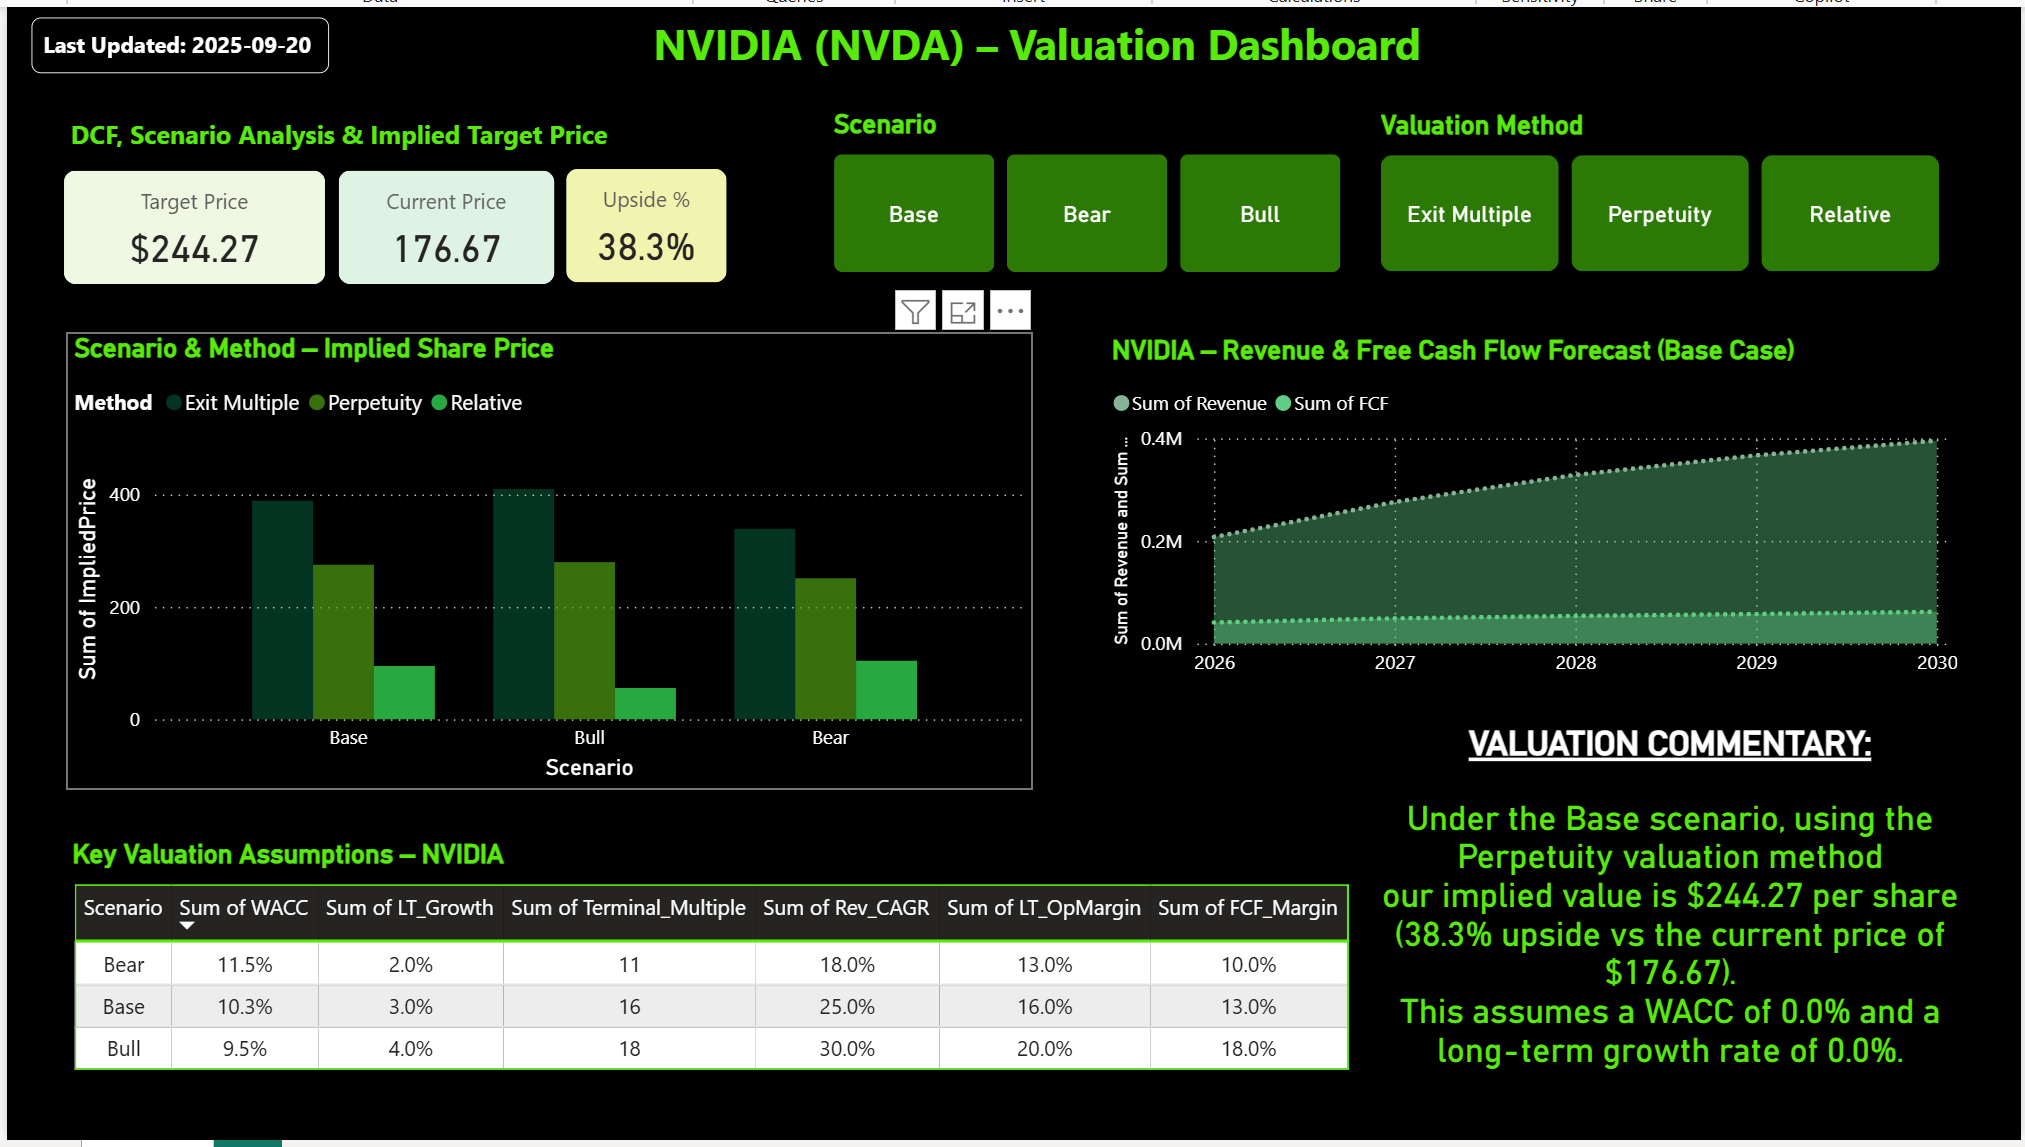

This screenshot's page, from the dashboard's own definition file:
{"tool":"powerbi","page":{"name":"Page 1","canvas":[1280,720],"ordinal":0},"visuals":[{"type":"cardVisual","fields":{"Data":["tbl_Valuation.Target Price (Formatted)"]},"box":[31.4,98.7,176.8,82.7],"z":0},{"type":"cardVisual","fields":{"Data":["tbl_Valuation.Current Price"]},"box":[205.8,99,147.6,82.3],"z":1000},{"type":"cardVisual","fields":{"Data":["tbl_Valuation.Upside (Formatted)"]},"box":[350.4,97.9,112.7,82.3],"z":2000},{"type":"clusteredColumnChart","title":"Scenario & Method – Implied Share Price","fields":{"Category":["tbl_Valuation.Scenario"],"Y":["Sum(tbl_Valuation.ImpliedPrice)"],"Series":["tbl_Valuation.Method"]},"box":[38.2,207.4,613.2,289.3],"z":3000},{"type":"lineChart","title":"NVIDIA – Revenue & Free Cash Flow Forecast (Base Case)","fields":{"Category":["tbl_Forecast.Year"],"Y":["Sum(tbl_Forecast.Revenue)","Sum(tbl_Forecast.FCF)"]},"box":[697.2,208.1,547,235.9],"z":4000},{"type":"tableEx","title":"Key Valuation Assumptions – NVIDIA","fields":{"Values":["tbl_Scenarios.Scenario","Sum(tbl_Scenarios.WACC)","Sum(tbl_Scenarios.LT_Growth)","Sum(tbl_Scenarios.Terminal_Multiple)","Sum(tbl_Scenarios.Rev_CAGR)","Sum(tbl_Scenarios.LT_OpMargin)","Sum(tbl_Scenarios.FCF_Margin)"]},"box":[36.9,521.6,830.9,179.4],"z":5000},{"type":"card","title":"VALUATION COMMENTARY:","fields":{"Values":["tbl_Valuation.Valuation Commentary"]},"box":[854.9,439.4,403.3,259.5],"z":6000},{"type":"textbox","box":[405.8,0,506.3,52.2],"z":7000},{"type":"textbox","box":[35.4,64.8,364.8,36.7],"z":8000},{"type":"advancedSlicerVisual","fields":{"Values":["tbl_Scenarios.Scenario"]},"box":[520.3,64.9,333.3,109.4],"z":9000},{"type":"advancedSlicerVisual","title":"Valuation Method","fields":{"Values":["tbl_Methods.Method"]},"box":[867.6,64.7,367.7,108.3],"z":10000},{"type":"textbox","box":[15.6,6.7,189.3,35.6],"z":11000}]}

Visuals, with their boxes on the page's 1280x720 design canvas (x1, y1, x2, y2). These are canvas units, not pixel positions in the 2025x1147 screenshot, which may show the page scaled, cropped or inside an application window:
cardVisual - tbl_Valuation.Target Price (Formatted): (31, 99, 208, 181)
cardVisual - tbl_Valuation.Current Price: (206, 99, 353, 181)
cardVisual - tbl_Valuation.Upside (Formatted): (350, 98, 463, 180)
"Scenario & Method – Implied Share Price" clusteredColumnChart: (38, 207, 651, 497)
"NVIDIA – Revenue & Free Cash Flow Forecast (Base Case)" lineChart: (697, 208, 1244, 444)
"Key Valuation Assumptions – NVIDIA" tableEx: (37, 522, 868, 701)
"VALUATION COMMENTARY:" card: (855, 439, 1258, 699)
textbox: (406, 0, 912, 52)
textbox: (35, 65, 400, 102)
advancedSlicerVisual - tbl_Scenarios.Scenario: (520, 65, 854, 174)
"Valuation Method" advancedSlicerVisual: (868, 65, 1235, 173)
textbox: (16, 7, 205, 42)
